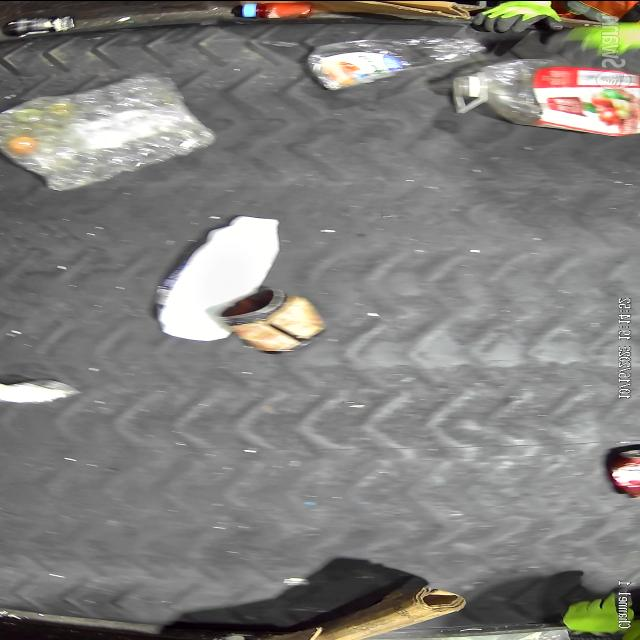can: (218, 286, 330, 356), (0, 375, 80, 404), (608, 444, 640, 498)
plastic_bottle: (305, 32, 485, 91)
